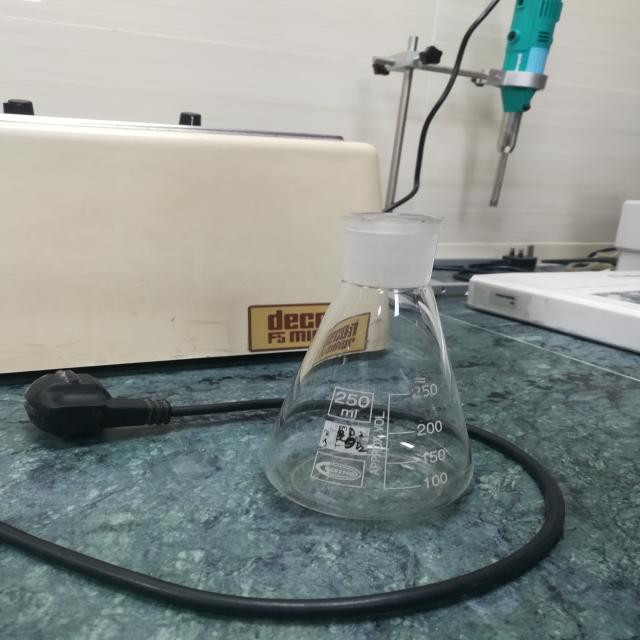Conical_Flask: (239, 182, 511, 550)
